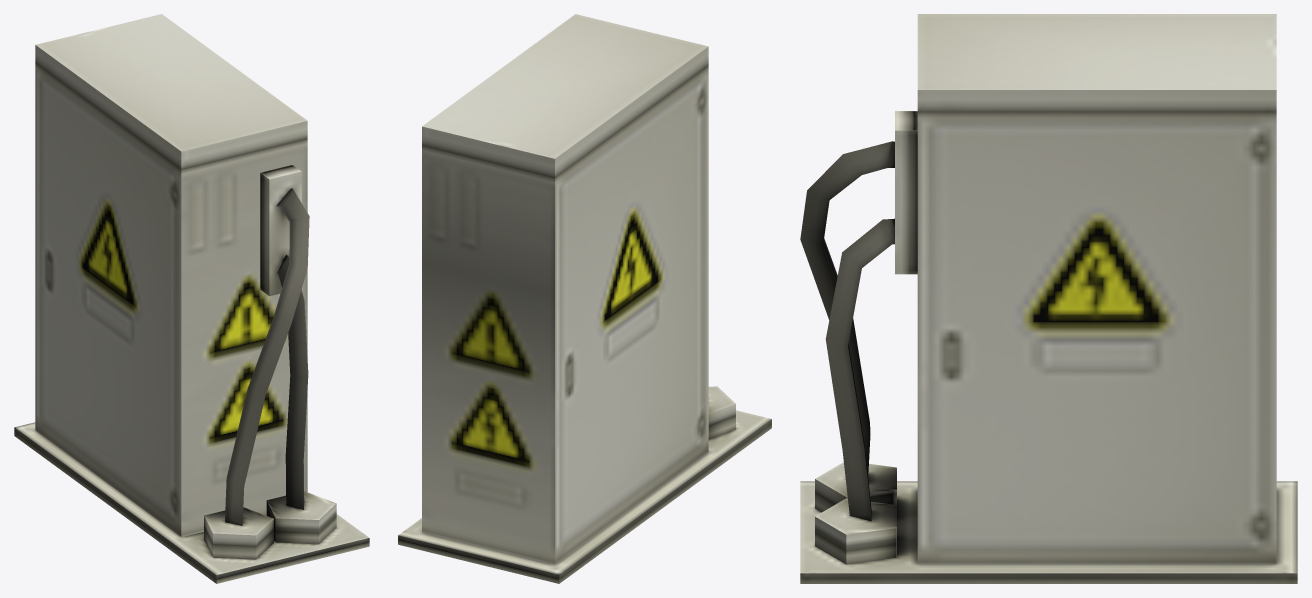
Rendered from ElectricityCabinet.FBX.
The picture shows the model from 3 angles, left to right: view 1: azimuth 30°, elevation 25°; view 2: azimuth 150°, elevation 25°; view 3: azimuth 270°, elevation 25°; orthographic projection. The views are drawn at different scales.
Visible parts, largest first — view 1: ElektriciteitsKastje; view 2: ElektriciteitsKastje; view 3: ElektriciteitsKastje.
Part boxes in pixels (<box>): ElektriciteitsKastje: <box>14,14,369,583</box>; ElektriciteitsKastje: <box>398,14,771,583</box>; ElektriciteitsKastje: <box>800,14,1297,583</box>.
Size of the model in its own units: 24.21 by 59.64 by 55.38.
Materials: 1 (1 with a texture image).
